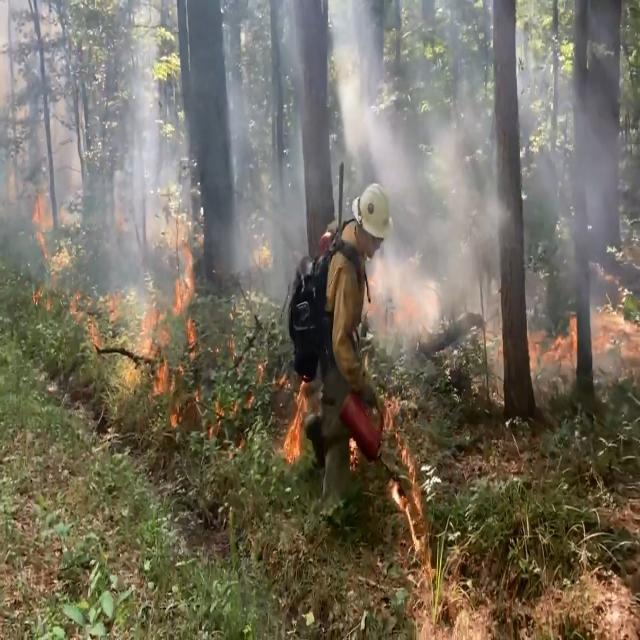Fire: (22, 181, 196, 402)
